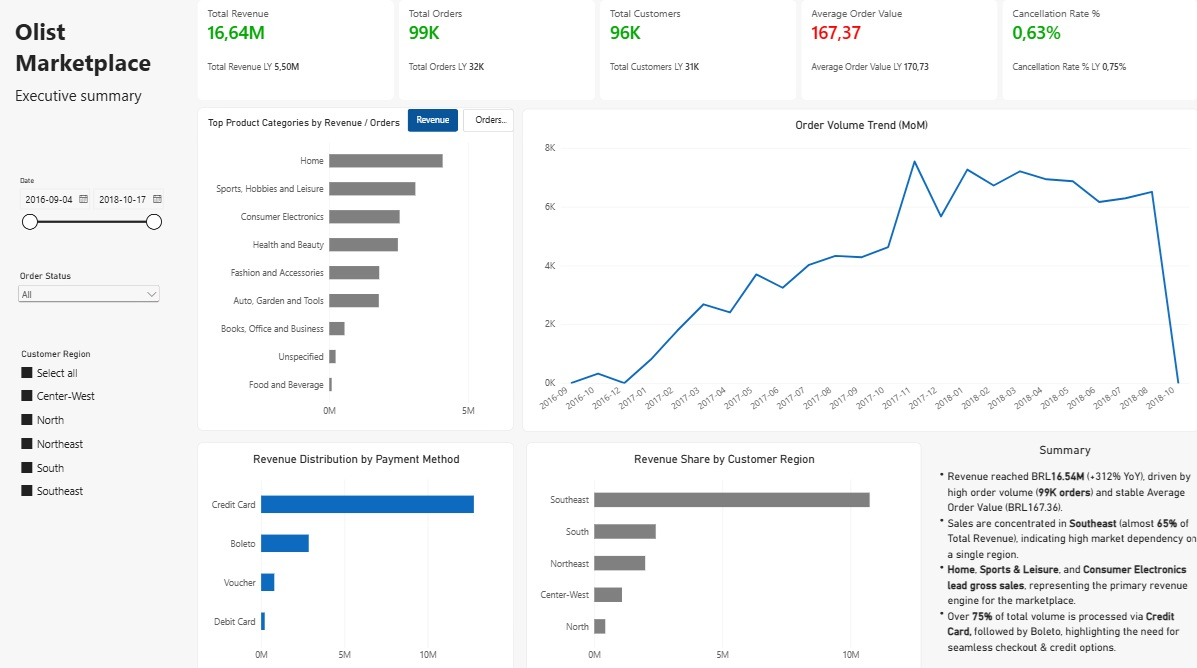

This screenshot's page, from the dashboard's own definition file:
{"tool":"powerbi","page":{"name":"Executive summary","canvas":[1920,1080],"ordinal":0},"visuals":[{"type":"cardVisual","fields":{"Data":["sales.Total Revenue","sales.Total Orders","sales.Total Customers","sales.AOV","sales.Cancellation Rate %"]},"box":[315,0,1602.5,160],"z":0},{"type":"lineChart","title":"Order Volume Trend (MoM)","fields":{"Y":["sales.Total Orders"],"Category":["dim_date.YearMonth"]},"box":[836,174,1083.3,516.7],"z":1000},{"type":"slicer","fields":{"Values":["dim_date.Date"]},"box":[24.2,282.4,238,96.8],"z":2000},{"type":"clusteredBarChart","title":"Revenue Distribution by Payment Method","fields":{"Category":["sales.payment_type"],"Y":["sales.Total Revenue"]},"box":[316,708,506,372],"z":3000},{"type":"clusteredBarChart","title":"Revenue Share by Customer Region","fields":{"Category":["dim_customers.customer_region"],"Y":["sales.Total Revenue"]},"box":[842,708,632,372],"z":4000},{"type":"slicer","fields":{"Values":["sales.order_status"]},"box":[24.4,431.7,236.6,82.9],"z":5000},{"type":"textbox","box":[24,24,238,110],"z":6000},{"type":"textbox","box":[1488,708,432,372],"z":7000},{"type":"clusteredBarChart","title":"Top Product Categories by Revenue / Orders","fields":{"Category":["sales.main_category"],"Y":["sales.Total Revenue"]},"box":[315.7,172.5,505.6,516.7],"z":9000},{"type":"bookmarkNavigator","box":[651,174.3,170.6,37.1],"z":10000},{"type":"textbox","box":[24.2,135.2,236,56.5],"z":11000},{"type":"slicer","fields":{"Values":["dim_customers.customer_region"]},"box":[26.2,558.8,236,266.3],"z":12000}]}

Visuals, with their boxes in screenshot pixels (x1, y1, x2, y2), scaled from the page's 1920x1080 canvas onto the 1197x668 screenshot:
cardVisual - sales.Total Revenue x sales.Total Orders: [196, 0, 1195, 99]
"Order Volume Trend (MoM)" lineChart: [521, 108, 1196, 427]
slicer - dim_date.Date: [15, 175, 163, 235]
"Revenue Distribution by Payment Method" clusteredBarChart: [197, 438, 512, 667]
"Revenue Share by Customer Region" clusteredBarChart: [525, 438, 919, 667]
slicer - sales.order_status: [15, 267, 163, 318]
textbox: [15, 15, 163, 83]
textbox: [928, 438, 1196, 667]
"Top Product Categories by Revenue / Orders" clusteredBarChart: [197, 107, 512, 426]
bookmarkNavigator: [406, 108, 512, 131]
textbox: [15, 84, 162, 119]
slicer - dim_customers.customer_region: [16, 346, 163, 510]
